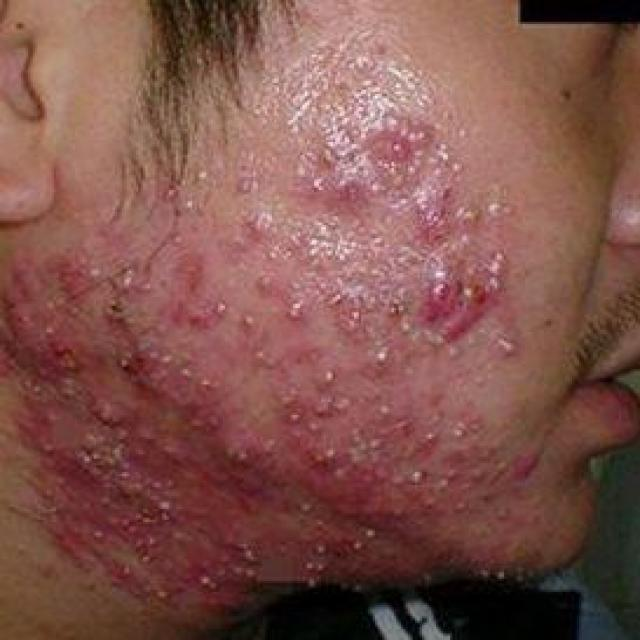Acne: (8, 297, 444, 596), (449, 336, 543, 574), (240, 184, 393, 286), (350, 102, 454, 218), (389, 232, 506, 334), (15, 242, 226, 295)
